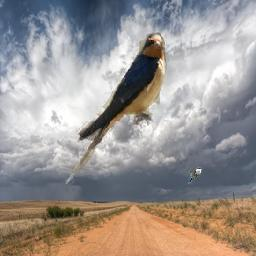Cuckoo: (188, 168, 203, 185)
Swallow: (65, 32, 167, 184)
